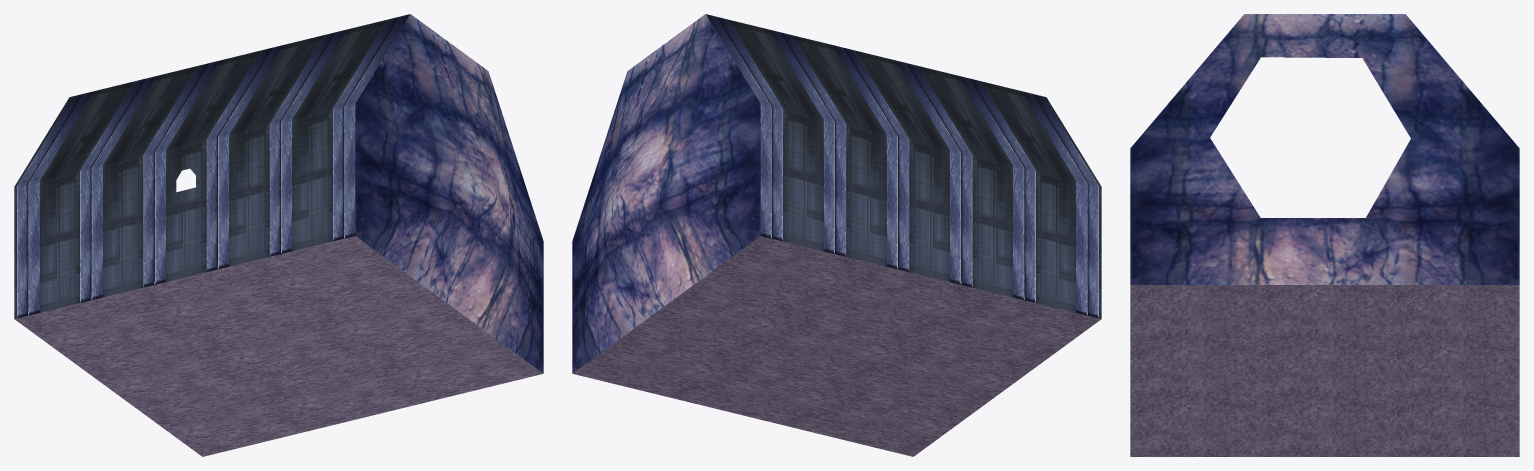
The picture shows the model from 3 angles, left to right: view 1: azimuth 30°, elevation 25°; view 2: azimuth 150°, elevation 25°; view 3: azimuth 270°, elevation 25°; orthographic projection. The views are drawn at different scales.
Visible parts, largest first — view 1: Object02; view 2: Object02; view 3: Object02.
Part boxes in pixels (<box>): Object02: <box>14,14,543,456</box>; Object02: <box>572,14,1101,456</box>; Object02: <box>1130,14,1519,456</box>.
Bounding box in the file's own units: 8202 × 5297 × 6893.
3 materials, 3 textured.
